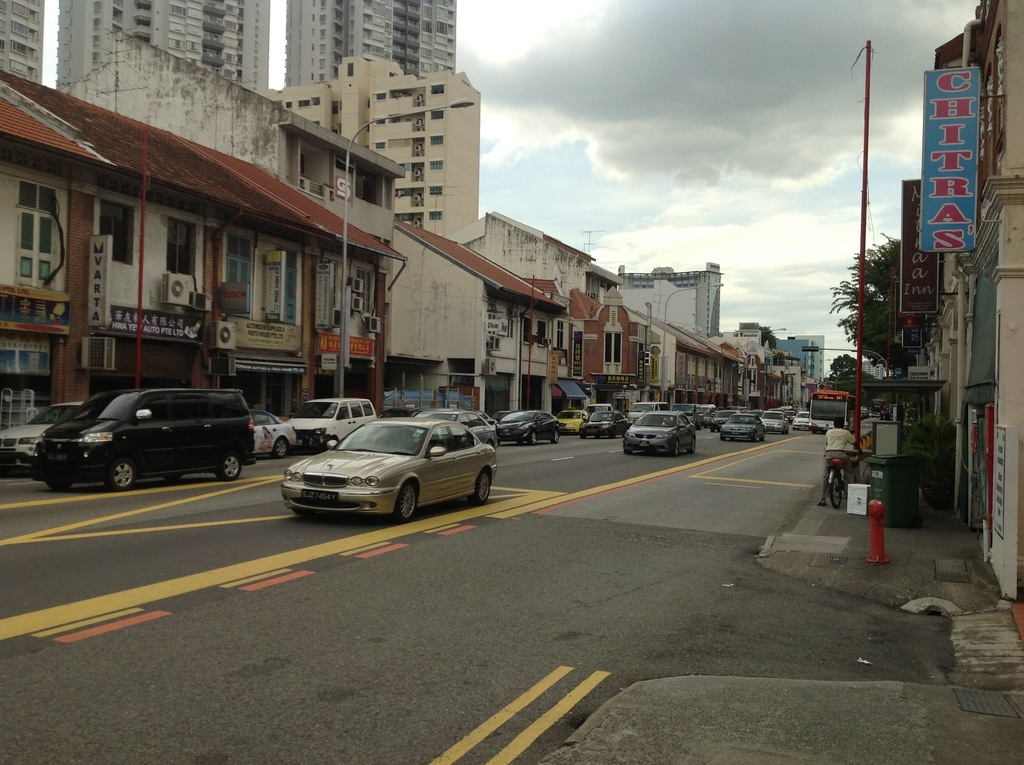Car: (0, 389, 817, 524)
